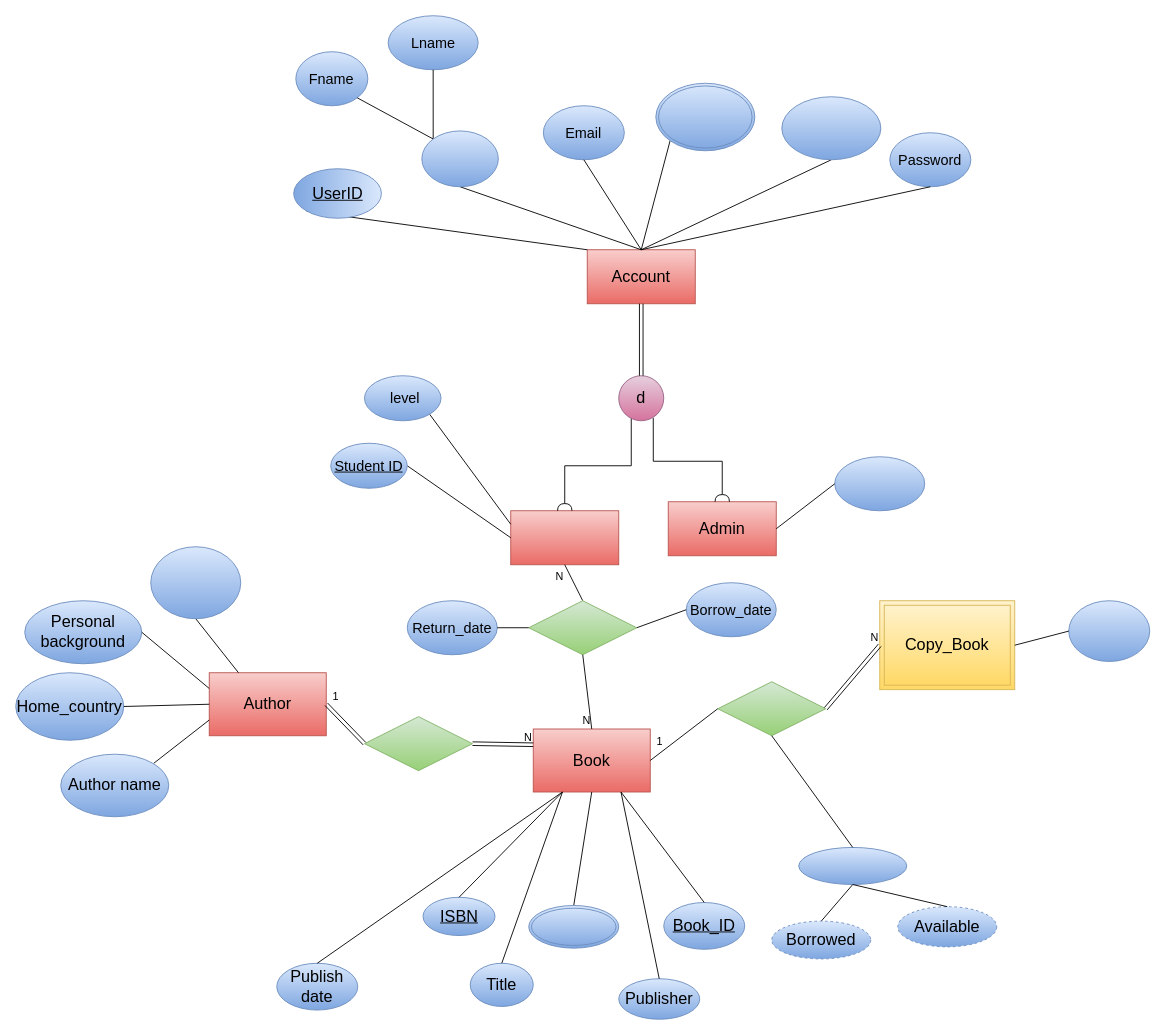
This 1166x1035 diagram has some shape labels left out. The shapes that lost their labels are listed below. From the top down, each one's centre as x and y in pixels, then its label:
At point (705, 116): "Phone number".
At point (831, 128): "User_name".
At point (459, 158): "Name".
At point (879, 483): "Access code".
At point (564, 537): "Student".
At point (195, 582): "AuthorID".
At point (582, 627): "Borrow".
At point (1109, 631): "Copy_ID".
At point (771, 708): "Has".
At point (418, 743): "Wrote".
At point (852, 866): "N_of_copies".
At point (573, 926): "Category".
